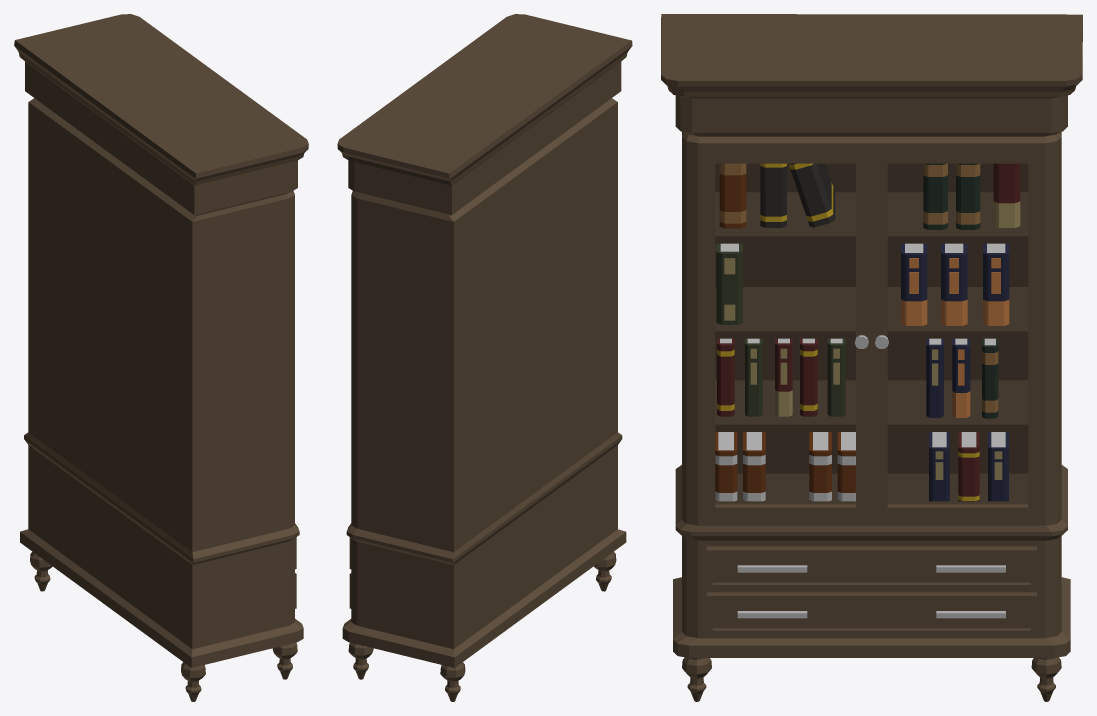
The model's file is SM_Bookcase_03.glb.
The picture shows the model from 3 angles, left to right: view 1: azimuth 30°, elevation 25°; view 2: azimuth 150°, elevation 25°; view 3: azimuth 270°, elevation 25°; orthographic projection. The views are drawn at different scales.
Parts seen in each view (by area): view 1: SM_Bookcase_03; view 2: SM_Bookcase_03; view 3: SM_Bookcase_03.
Part boxes in pixels (x1=…): SM_Bookcase_03: x1=14, y1=14, x2=308, y2=701; SM_Bookcase_03: x1=337, y1=14, x2=632, y2=701; SM_Bookcase_03: x1=661, y1=14, x2=1082, y2=701.
Size of the model in its own units: 0.5253 by 2.26 by 1.38.
Materials: 2 (1 with a texture image).
